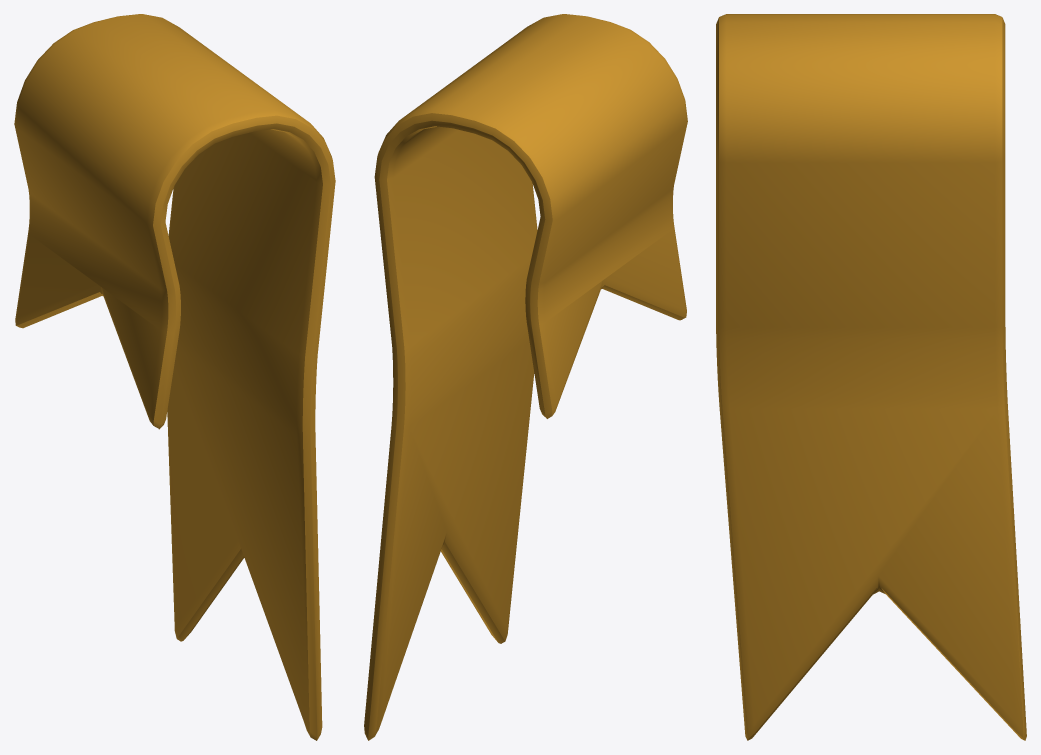
The model's file is kurdele2.fbx.
3 views of the same model, side by side, from view 1: azimuth 30°, elevation 25°; view 2: azimuth 150°, elevation 25°; view 3: azimuth 270°, elevation 25° (orthographic). The views are drawn at different scales.
Parts seen in each view (by area): view 1: Plane.001; view 2: Plane.001; view 3: Plane.001.
Boxes of the visible parts, x1,y1,x2,y2 form: Plane.001: (14,14,335,740); Plane.001: (364,14,687,740); Plane.001: (716,14,1026,740).
Bounding box in the file's own units: 42.63 × 141 × 59.29.
